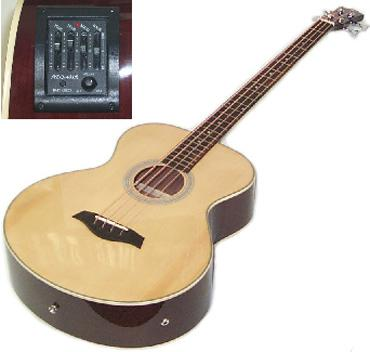guitar: (7, 5, 368, 348)
